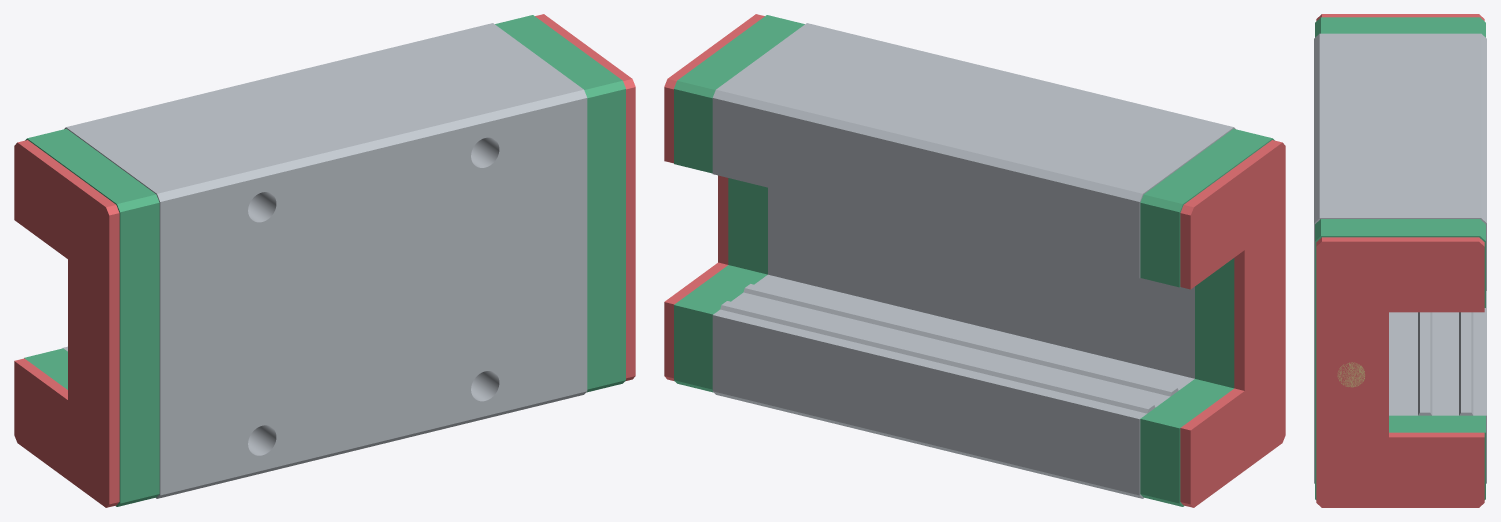
3 views of the same model, side by side, from view 1: azimuth 30°, elevation 25°; view 2: azimuth 150°, elevation 25°; view 3: azimuth 270°, elevation 25° (orthographic). The views are drawn at different scales.
Visible parts, largest first — view 1: steel_saddle, wiper_neg_x, endcap_neg_x, endcap_pos_x, wiper_pos_x; view 2: steel_saddle, wiper_neg_x, endcap_neg_x, endcap_pos_x, wiper_pos_x; view 3: steel_saddle, wiper_pos_x, endcap_pos_x, endcap_neg_x, wiper_neg_x, grease_port.
Boxes of the visible parts, box(x1,y1,x2,y2) form: steel_saddle: box(63, 23, 587, 498); wiper_neg_x: box(14, 140, 119, 507); endcap_neg_x: box(24, 128, 159, 506); endcap_pos_x: box(495, 15, 625, 392); wiper_pos_x: box(535, 14, 635, 381); steel_saddle: box(712, 23, 1235, 498); wiper_neg_x: box(1180, 140, 1285, 507); endcap_neg_x: box(1140, 128, 1274, 506); endcap_pos_x: box(674, 15, 804, 392); wiper_pos_x: box(664, 14, 764, 381); steel_saddle: box(1314, 33, 1486, 483); wiper_pos_x: box(1316, 237, 1484, 507); endcap_pos_x: box(1315, 219, 1485, 499); endcap_neg_x: box(1315, 17, 1485, 37); wiper_neg_x: box(1316, 14, 1484, 20); grease_port: box(1337, 362, 1364, 387).
Bounding box in the file's own units: 0.0614 × 0.034 × 0.0197.
